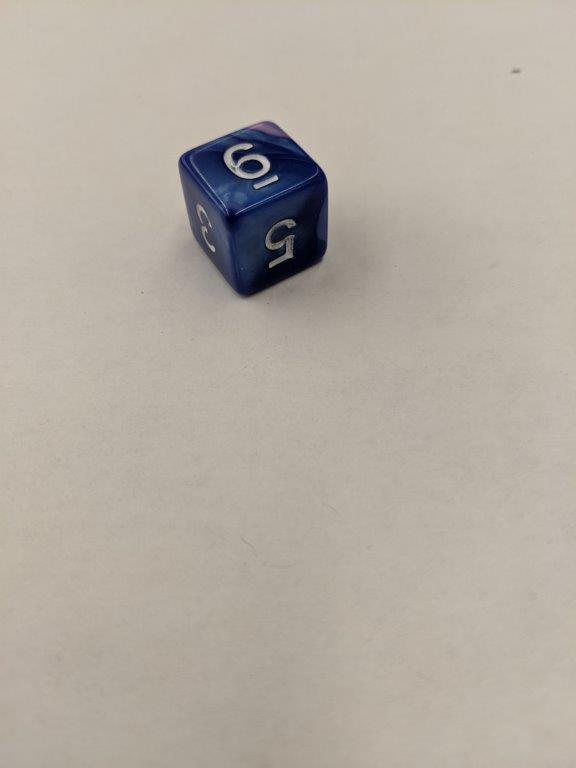d6-6: (181, 116, 328, 298)
